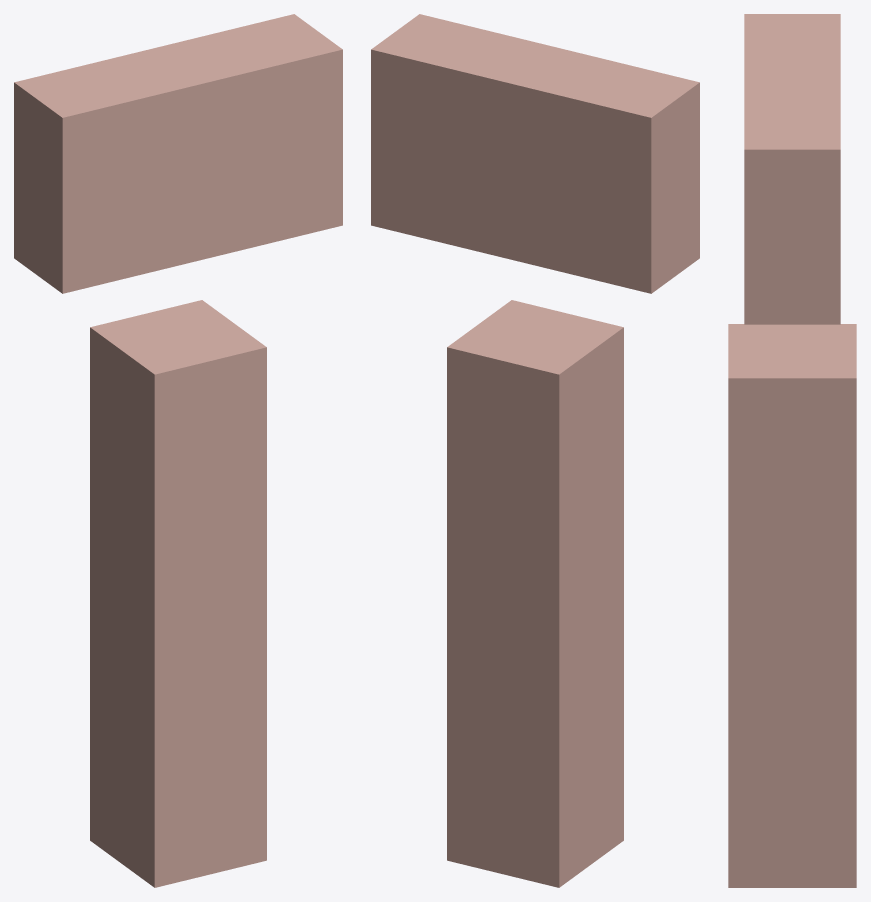
Rendered from 03_brush.glb.
The picture shows the model from 3 angles, left to right: view 1: azimuth 30°, elevation 25°; view 2: azimuth 150°, elevation 25°; view 3: azimuth 270°, elevation 25°; orthographic projection.
Visible parts, largest first — view 1: beauty_03_brush; view 2: beauty_03_brush; view 3: beauty_03_brush.
Part boxes in pixels (x1,y1,x2,y2): beauty_03_brush: [14, 14, 342, 887]; beauty_03_brush: [371, 14, 699, 887]; beauty_03_brush: [728, 14, 856, 887].
Size of the model in its own units: 0.2 by 0.535 by 0.08.
